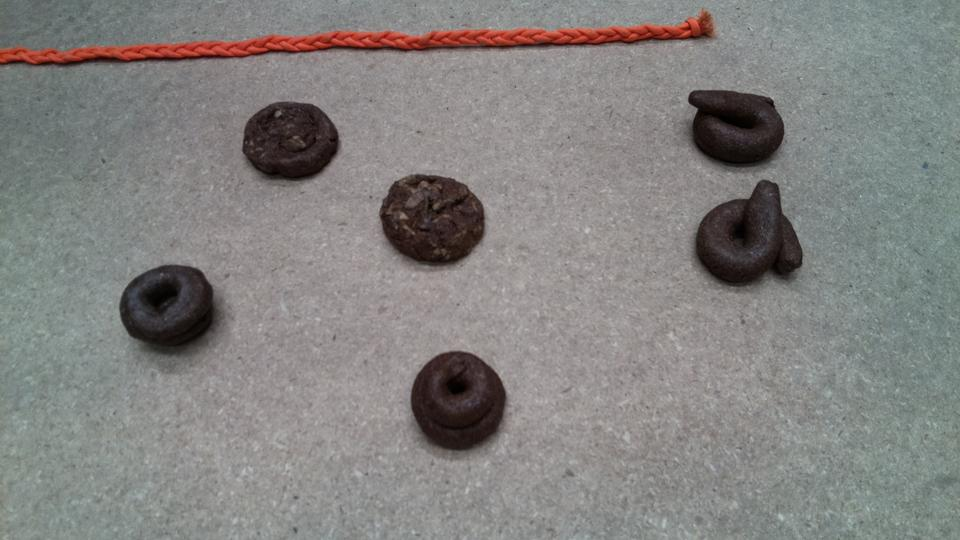poop: (694, 175, 810, 290), (376, 169, 491, 273), (406, 347, 513, 454), (236, 95, 345, 185), (115, 261, 221, 350), (686, 84, 791, 169)
rope: (1, 6, 718, 73)
